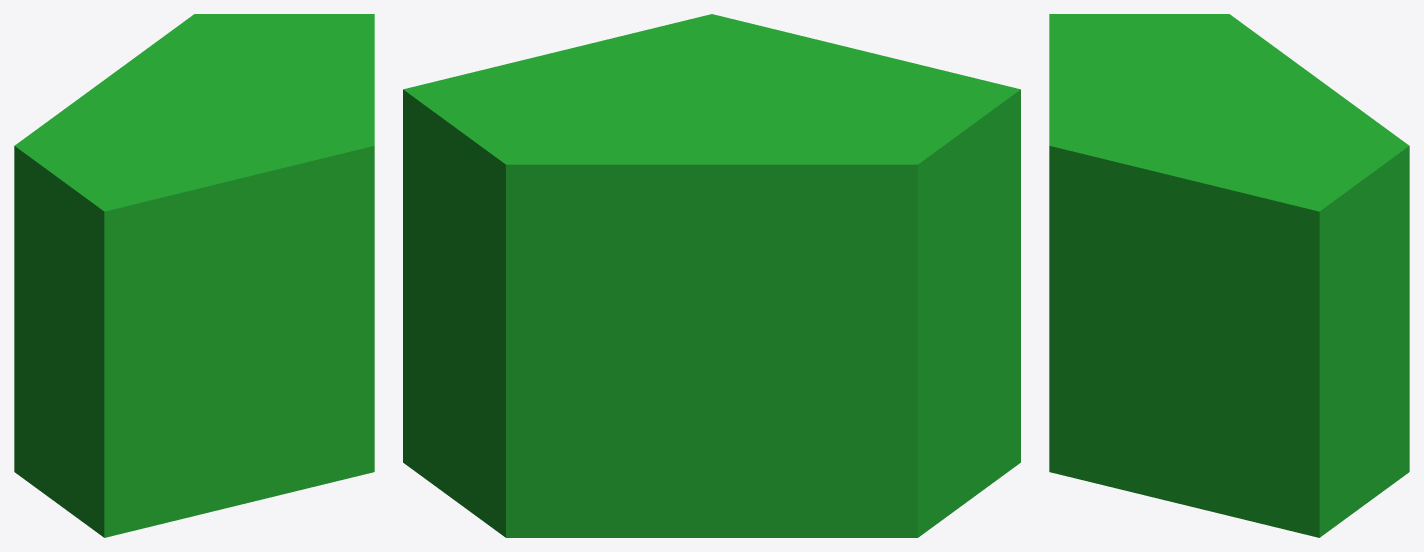
File: module-corner_land_001.glb
3 views of the same model, side by side, from view 1: azimuth 30°, elevation 25°; view 2: azimuth 150°, elevation 25°; view 3: azimuth 270°, elevation 25° (orthographic). The views are drawn at different scales.
Parts seen in each view (by area): view 1: module-corner_land_001; view 2: module-corner_land_001; view 3: module-corner_land_001.
Boxes of the visible parts, x1,y1,x2,y2 form: module-corner_land_001: (14, 14, 374, 537); module-corner_land_001: (403, 14, 1020, 537); module-corner_land_001: (1049, 14, 1409, 537).
Bounding box in the file's own units: 0.6495 × 0.5 × 0.5.
